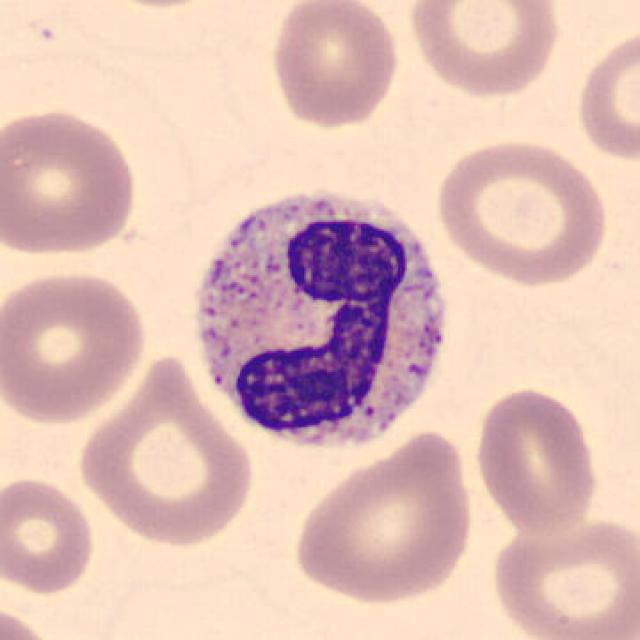Neutrophil: (180, 175, 464, 467)
RBC: (71, 349, 260, 550), (288, 426, 478, 606), (431, 132, 614, 288), (0, 264, 151, 428), (0, 102, 144, 263), (469, 384, 603, 536), (486, 511, 638, 640), (265, 0, 403, 132), (403, 0, 565, 100), (0, 471, 100, 599), (570, 19, 640, 165), (0, 599, 62, 640), (81, 0, 231, 12)
